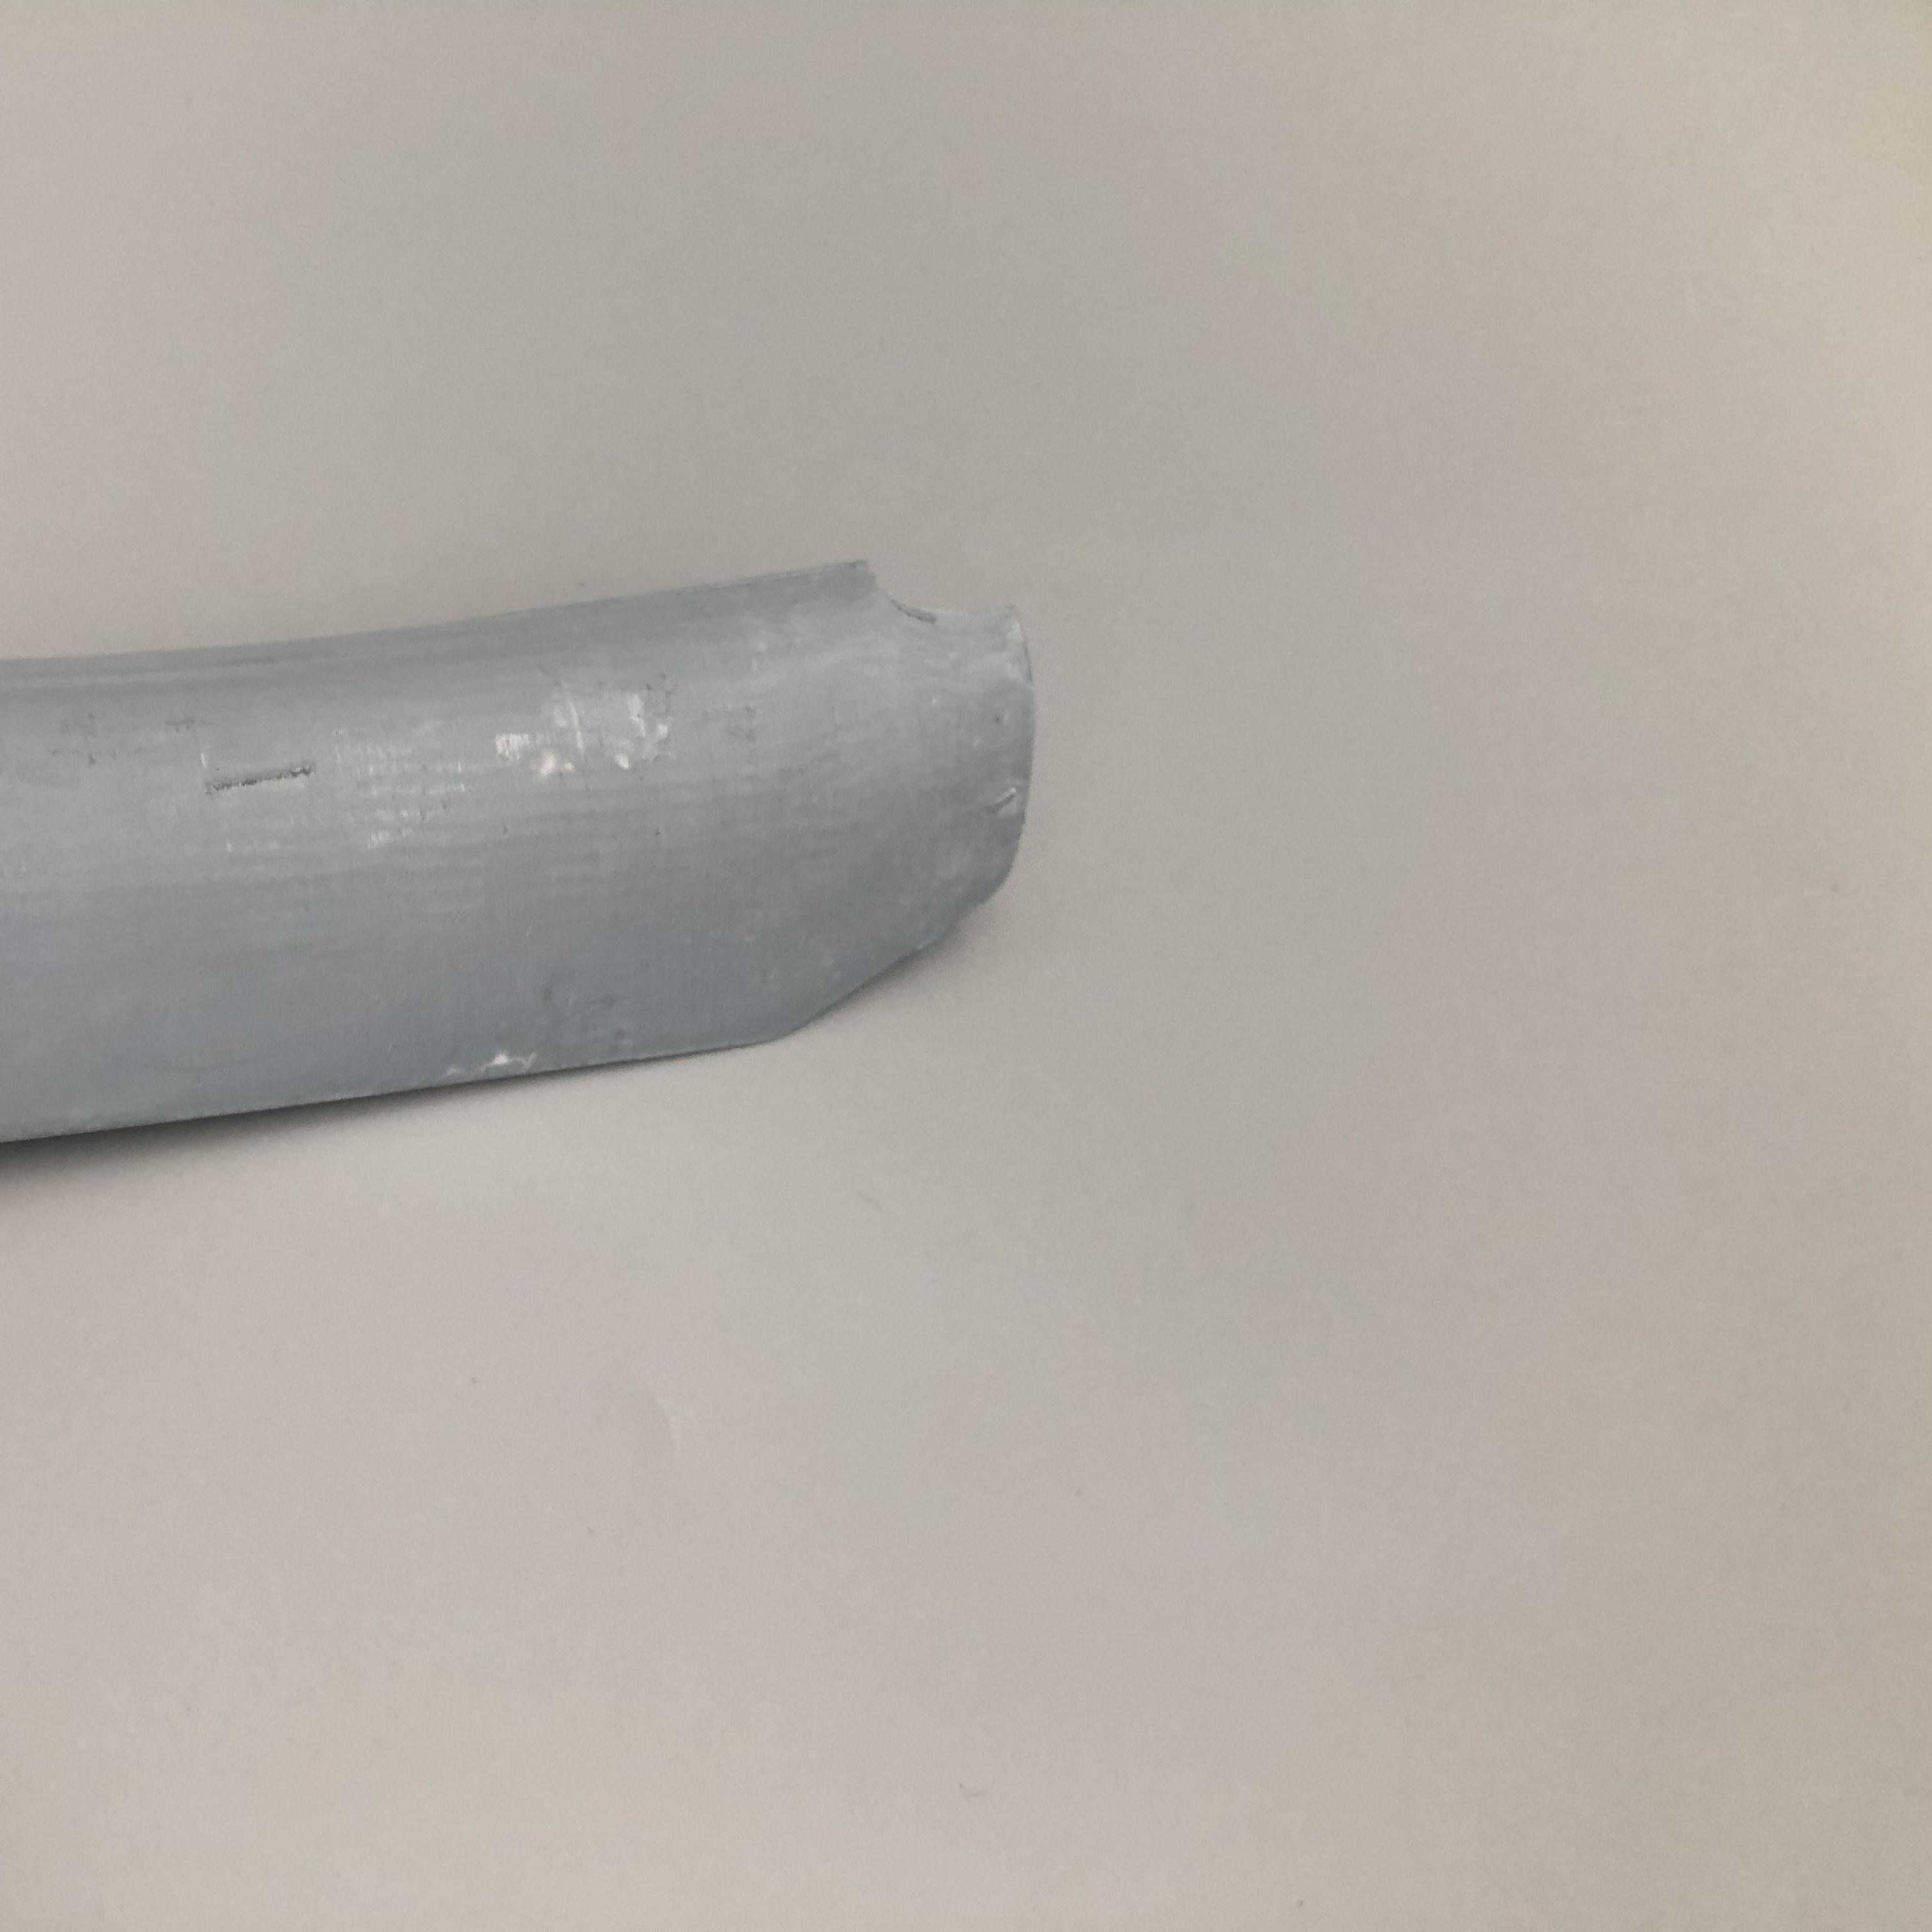fracture: (847, 561, 1033, 642)
